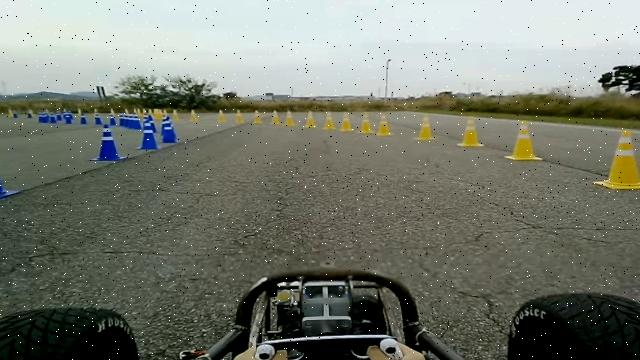blue cone: (89, 124, 126, 161), (0, 136, 20, 200), (134, 128, 162, 150), (160, 115, 179, 143)
yellow cone: (592, 130, 640, 190), (504, 120, 543, 160), (456, 116, 484, 147), (413, 115, 436, 141), (375, 114, 393, 136), (357, 111, 373, 134), (339, 112, 354, 132), (322, 111, 335, 130), (304, 109, 316, 128), (284, 110, 295, 126), (270, 109, 280, 125), (252, 109, 262, 124), (234, 109, 244, 123)
